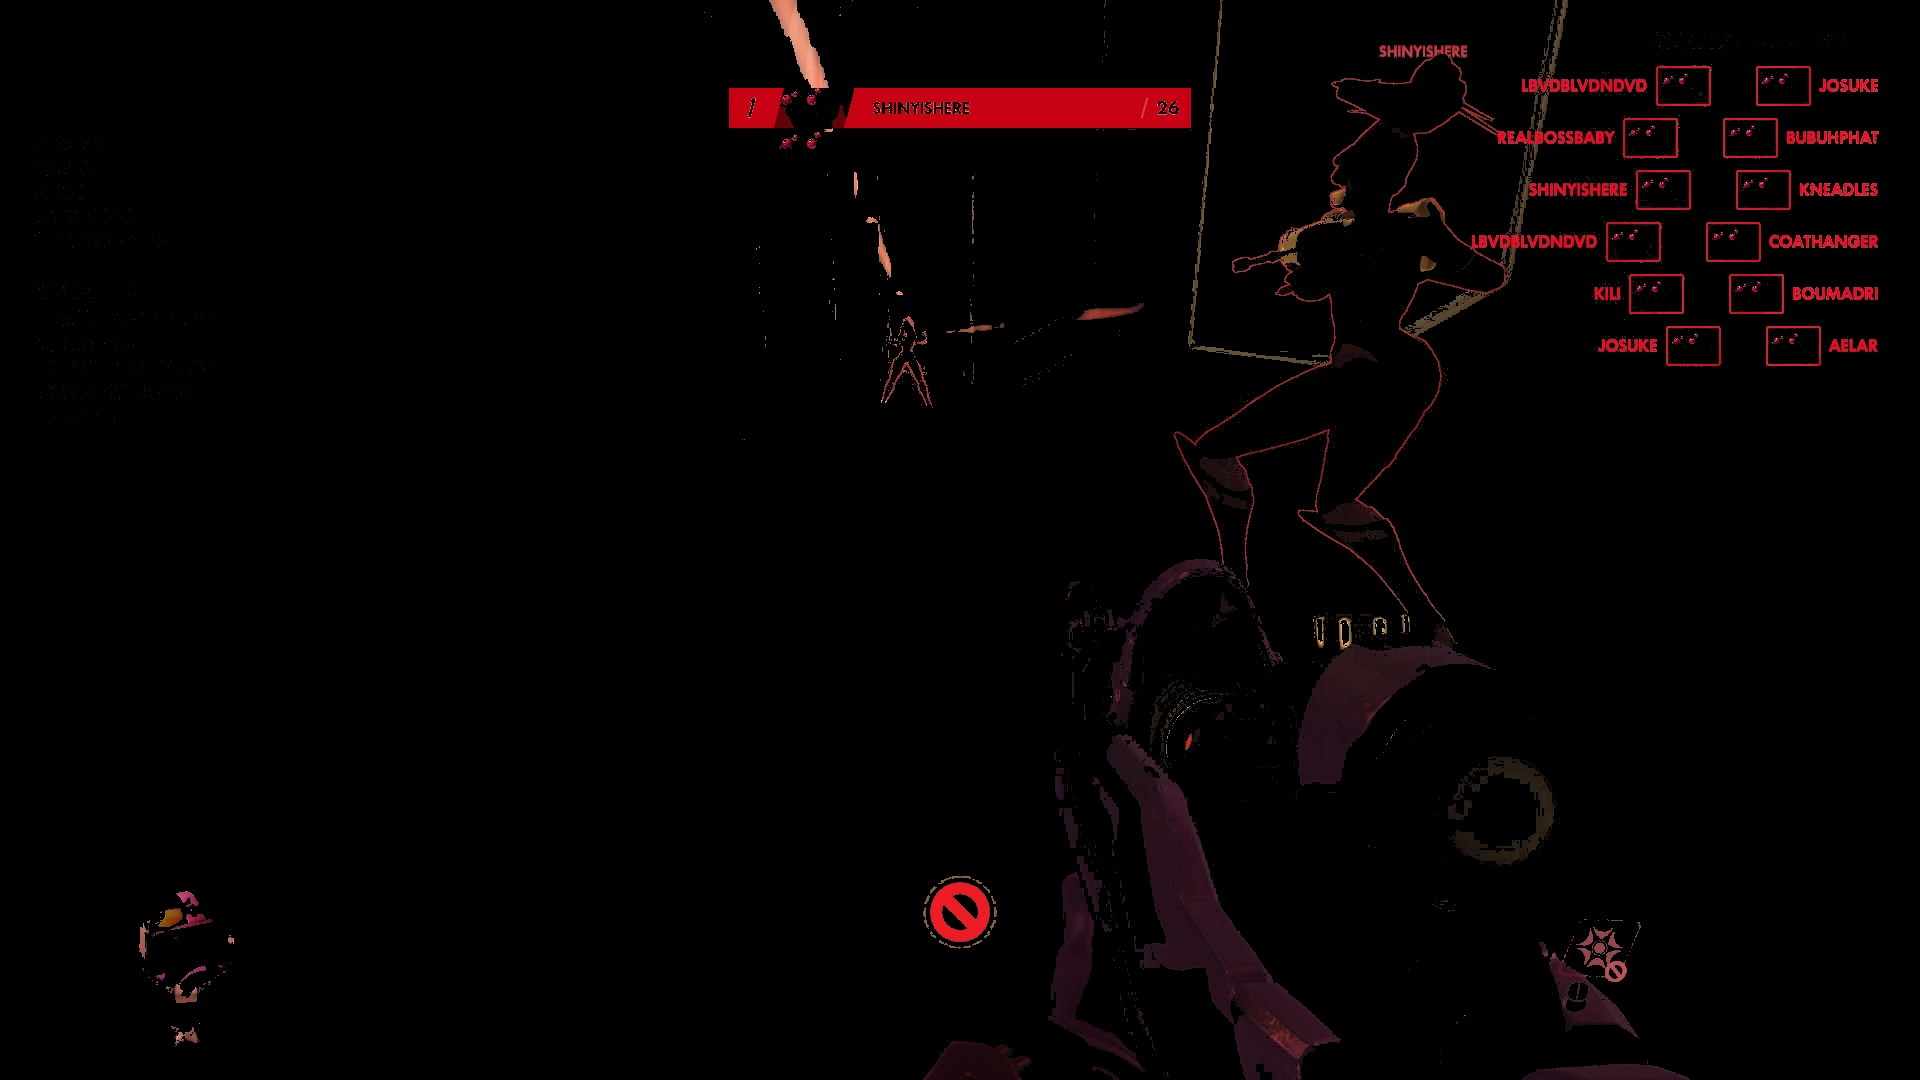widowmaker: (1178, 61, 1476, 654), (872, 315, 935, 417)
